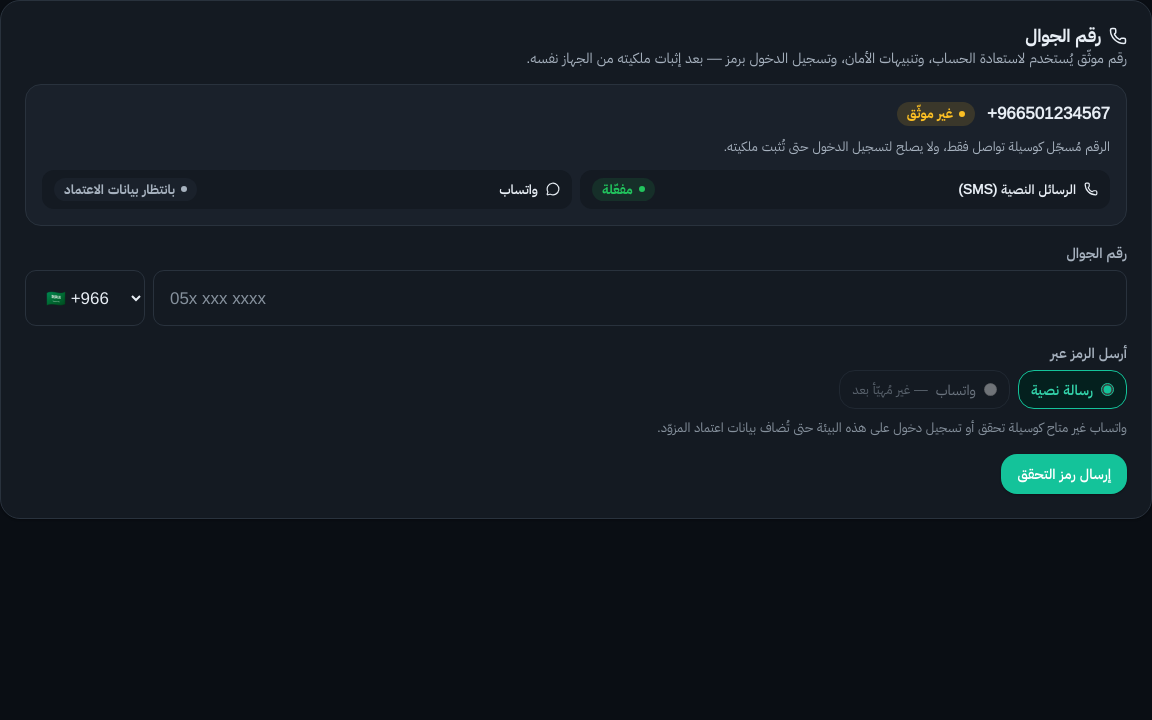
Test: AUTH-PHONE-001 — the mobile number in Account security › refuses to send a number that is not readable
expect the element with test id "phone-state" is shown: met, box [897,102,975,126]
Type "12" into the field with test id "phone-credential-number" at (640,298), box [153,270,1127,326]
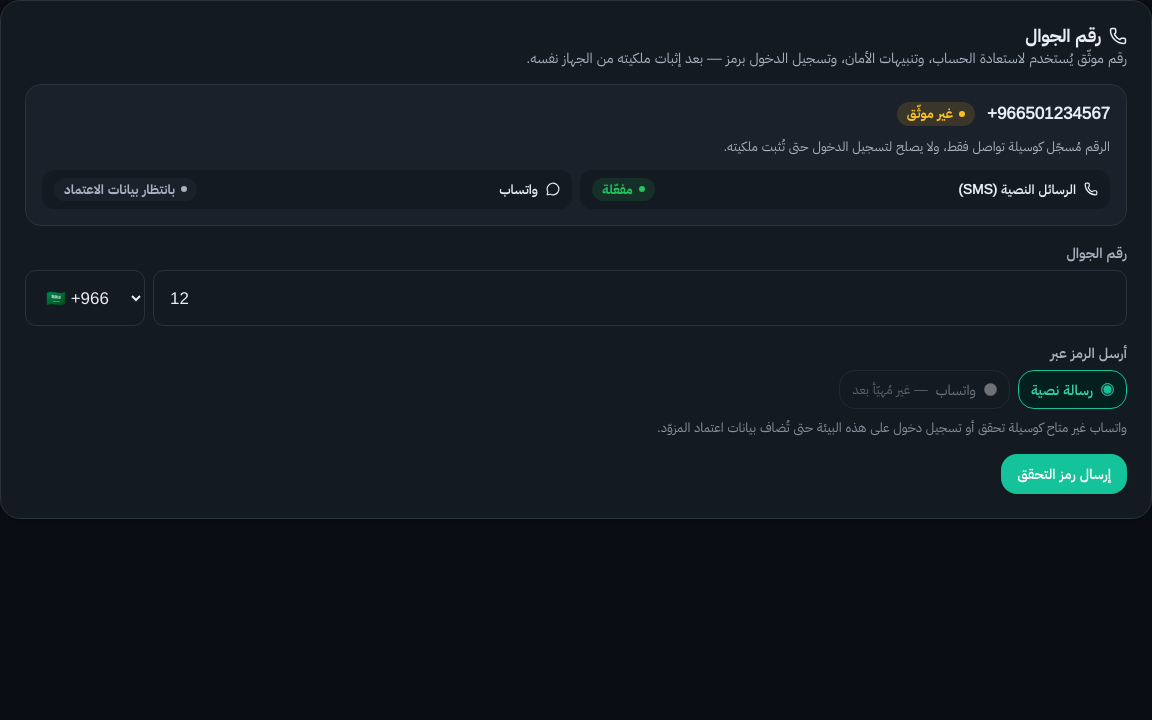
Click the button with test id "phone-send-code" at (1064,474), box [1002,454,1127,494]
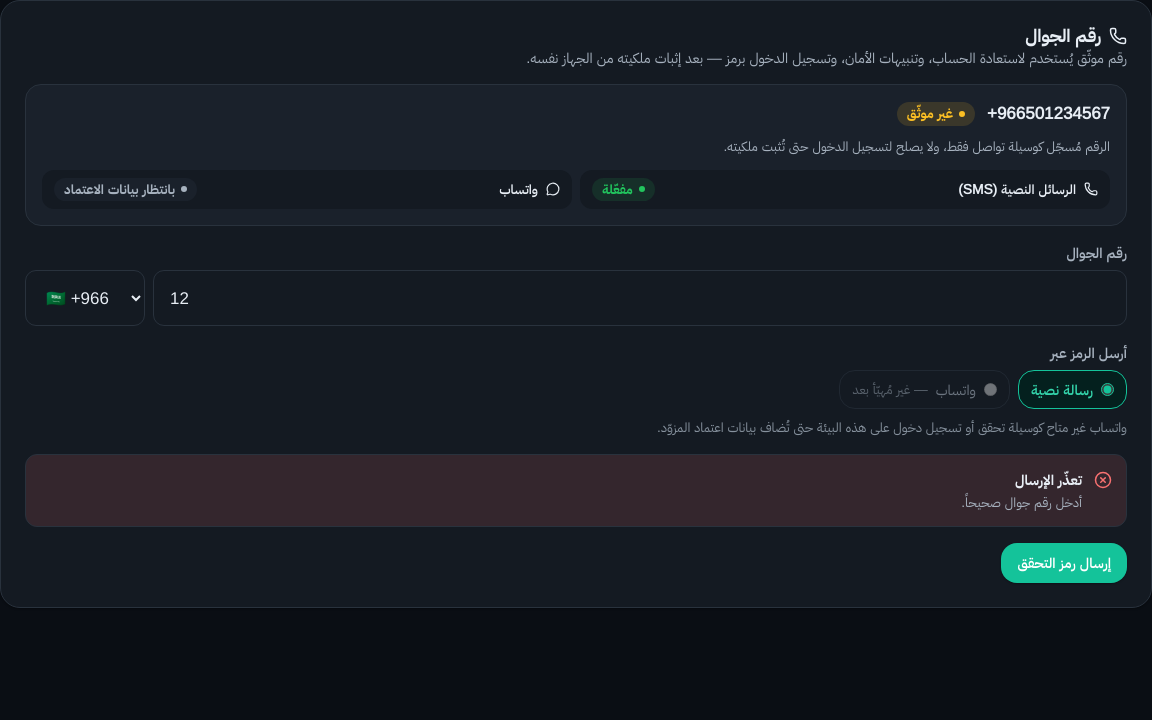
expect the text "أدخل رقم جوال صحيحاً." is shown: met, box [961,493,1082,512]
